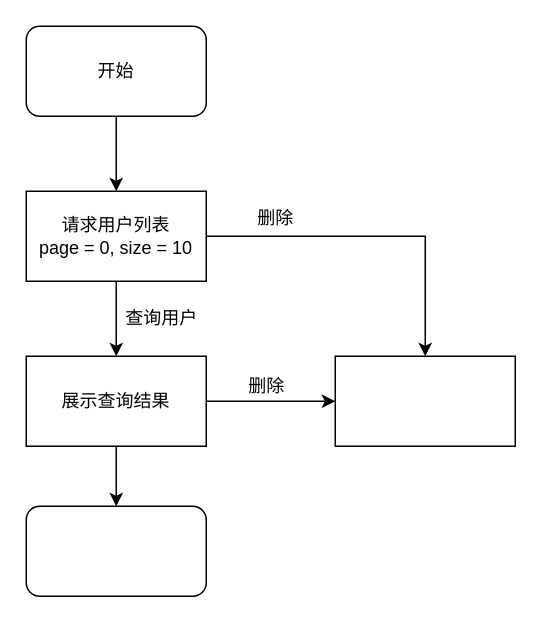
The diagram is 542 pixels wide and 623 high, and some of its shapes have lost their labels. The centre of each missing label's shape, as x and y in pixels:
"确认删除提示框" belongs at (x=424, y=400).
"结束" belongs at (x=115, y=550).
